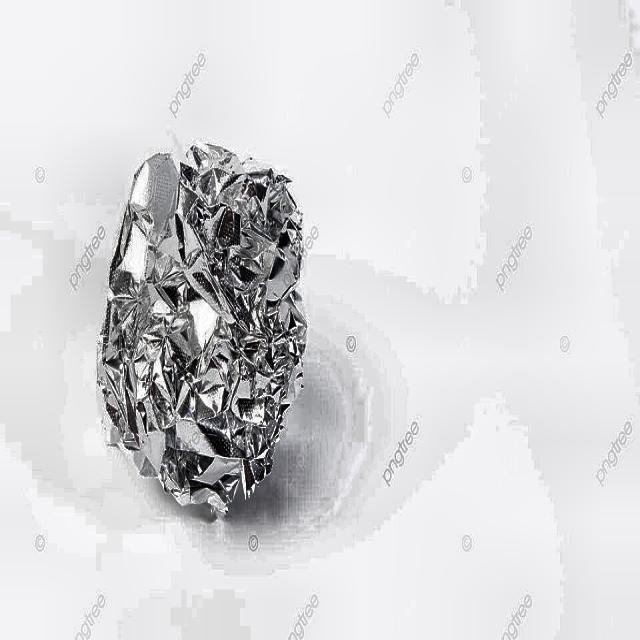Foil: (67, 124, 327, 543)
